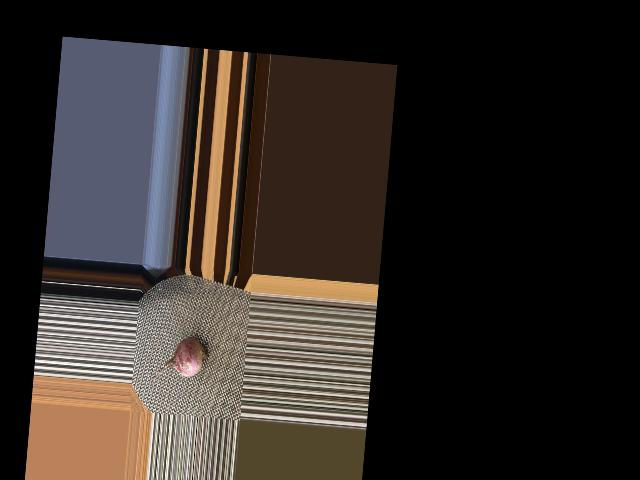beet: (150, 333, 210, 395)
